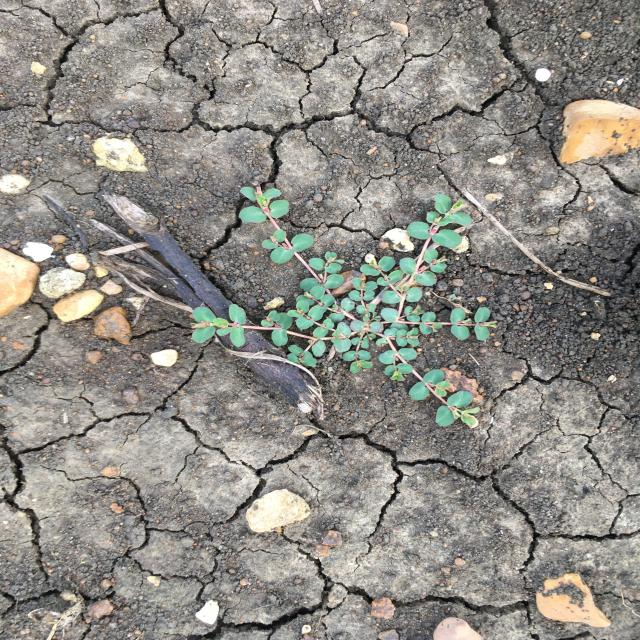SpottedSpurge: (186, 181, 500, 431)
